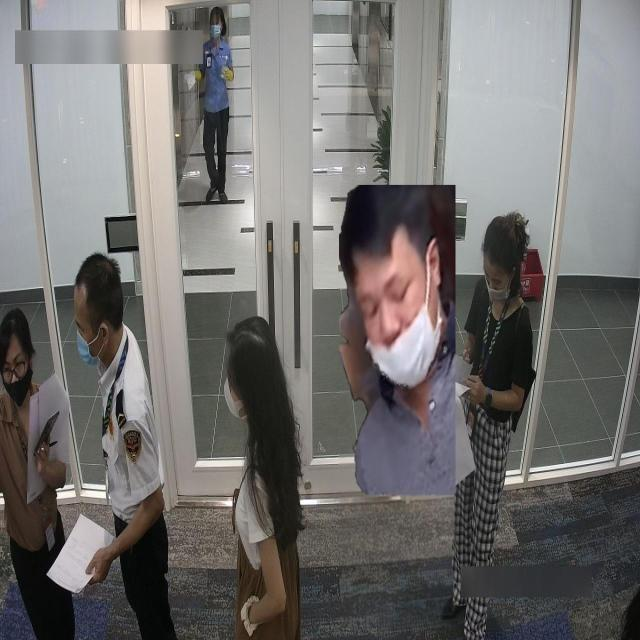hairnet: (360, 268, 441, 390)
